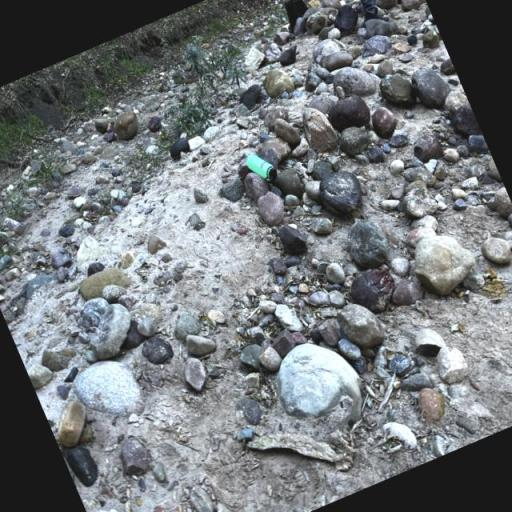bottle: (244, 146, 280, 188)
